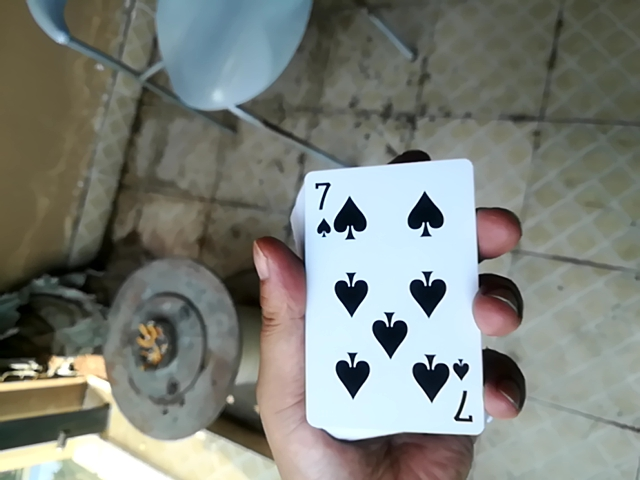ht 7: (293, 153, 496, 440)
